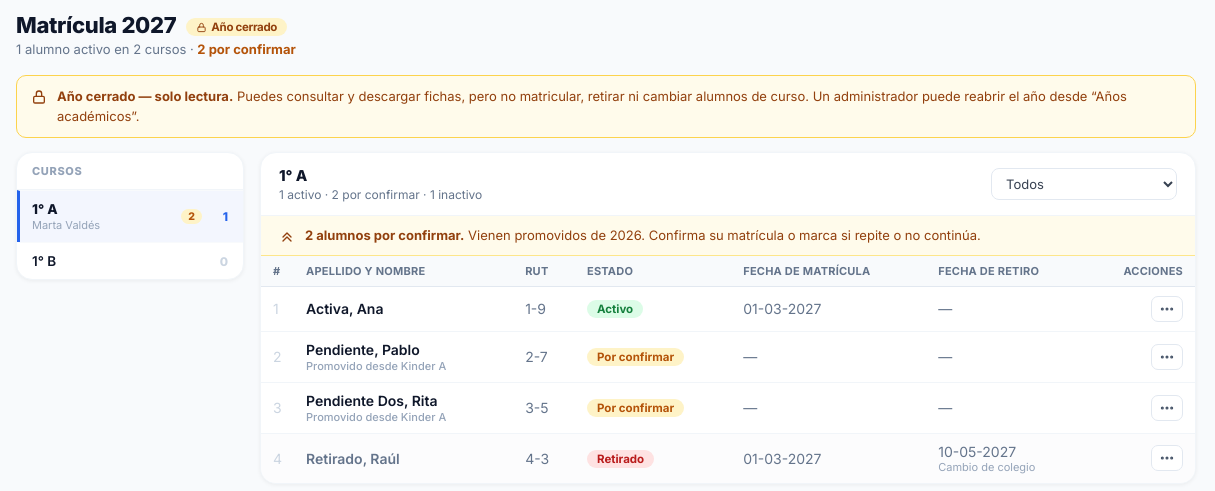
Test: año cerrado: banner y sin acciones de escritura
This screenshot has width=1215, height=491.
Expected: the link "Activa, Ana" is shown, [306,300,383,317]
Expected: the text "Año cerrado — solo lectura." is shown, [57,88,233,104]
Click the button named "acciones para ana activa". click: (1167, 309)
box: [1151,296,1183,322]
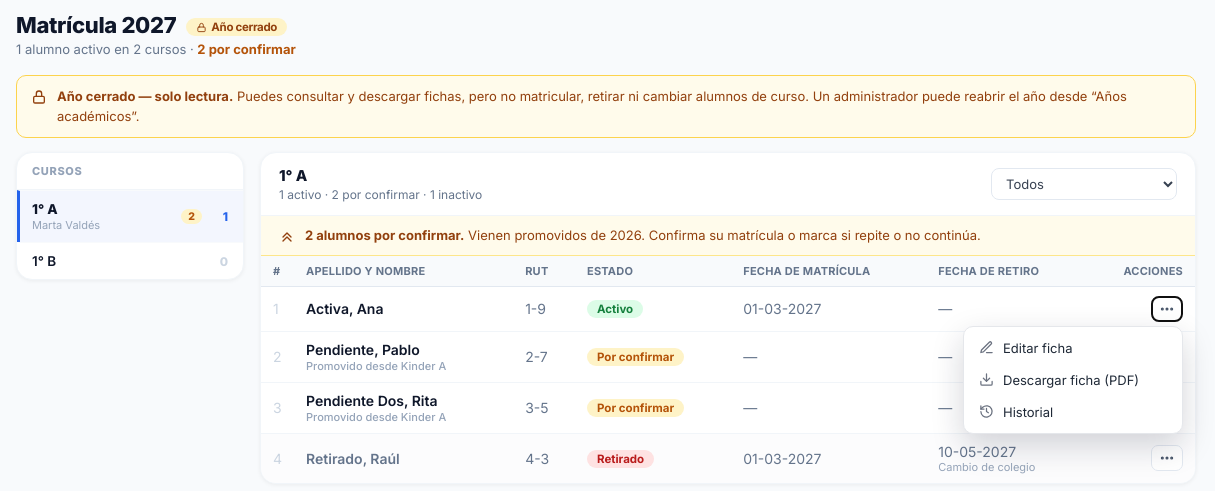
Expected: the menu item "Descargar ficha (PDF)" is shown, [969,364,1177,396]
